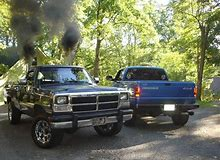smoke: (6, 1, 43, 62), (44, 1, 82, 58)
